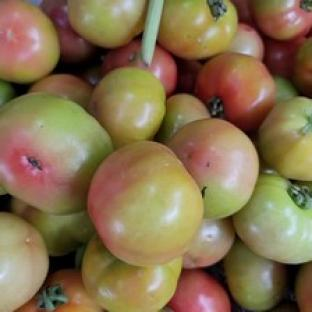Tomato: (88, 141, 203, 266), (0, 92, 112, 214), (166, 119, 259, 218), (81, 236, 182, 311), (233, 173, 311, 264), (195, 52, 275, 132), (87, 67, 165, 149), (10, 198, 94, 256), (0, 212, 48, 311), (223, 239, 289, 310), (258, 97, 311, 181), (101, 38, 176, 96), (16, 268, 103, 311), (168, 268, 231, 311), (155, 94, 210, 143), (183, 218, 235, 268), (28, 73, 93, 107), (262, 37, 306, 79), (228, 23, 264, 59), (292, 37, 311, 97), (175, 58, 201, 94), (294, 261, 311, 311), (273, 76, 299, 103), (0, 80, 16, 107)
